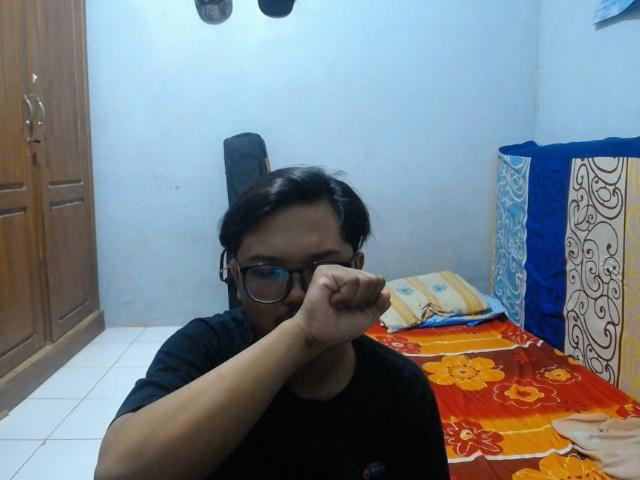Grab: (294, 257, 394, 350)
